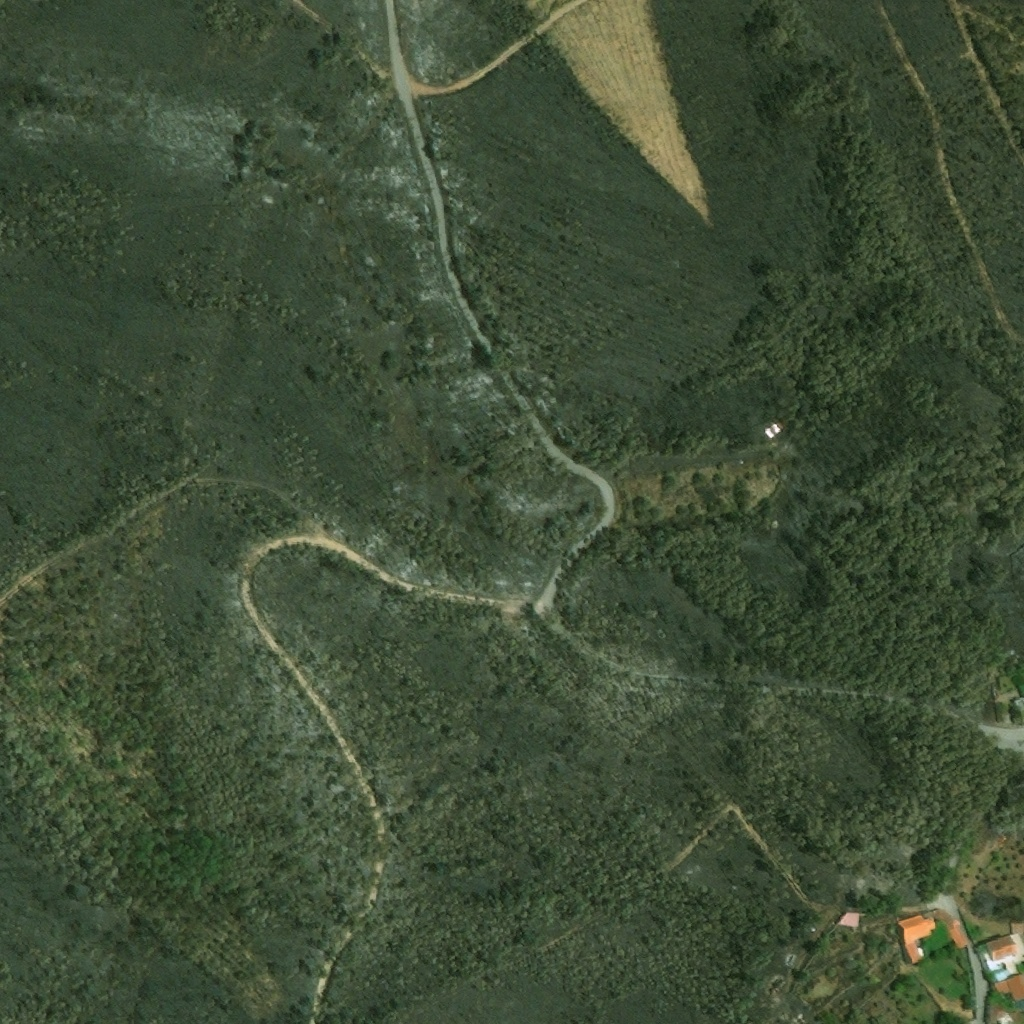0 no-damage: (896, 907, 970, 964), (995, 973, 1023, 1011), (986, 934, 1017, 960), (988, 1003, 1023, 1023), (837, 912, 867, 933), (769, 420, 787, 436)
4 un-classified: (1013, 697, 1023, 716), (1010, 922, 1023, 934)
